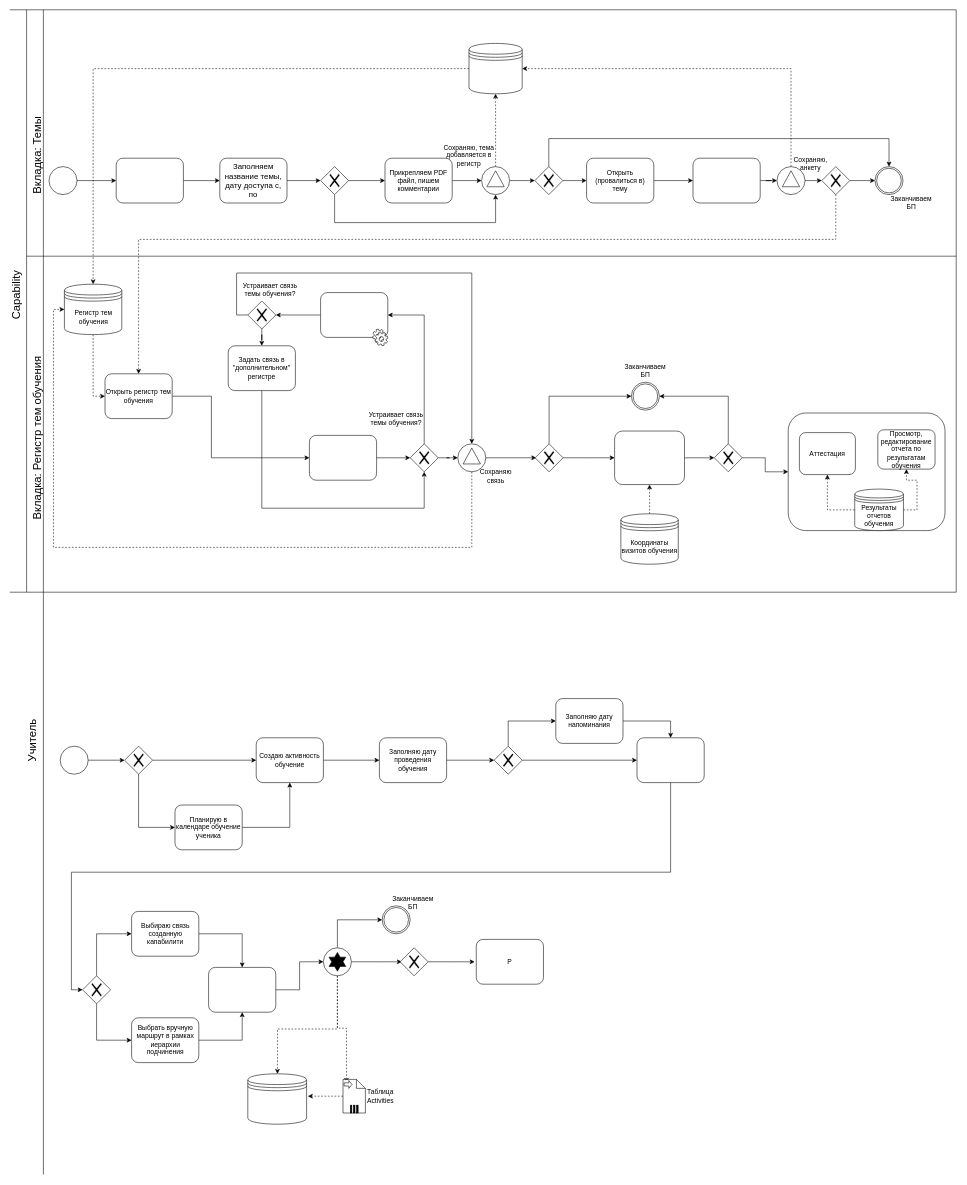
The diagram is 967 pixels wide and 1185 high, and some of its shapes have lost their labels. Here are the shapes that lost their labels. From the top down, the box of each, then its label:
(468, 43, 522, 94): Регистр тем
(116, 158, 183, 203): Создать тему обучения в регистре тем
(692, 158, 760, 203): Заполняем анкету, формируем шкалу оценки в теме
(320, 292, 388, 337): Согласно иерархии задать связь ученик=>учитель
(309, 435, 377, 480): Задать связь Маршрут(учитель) => Маршрут ученик по подчиненности
(614, 430, 684, 485): Просмотр отчета по координатам посещения
(636, 737, 704, 783): Выбрать тему обучения
(208, 967, 276, 1012): Выбираю сотрудника из списка сотрудников
(247, 1073, 307, 1124): БД Teaching
